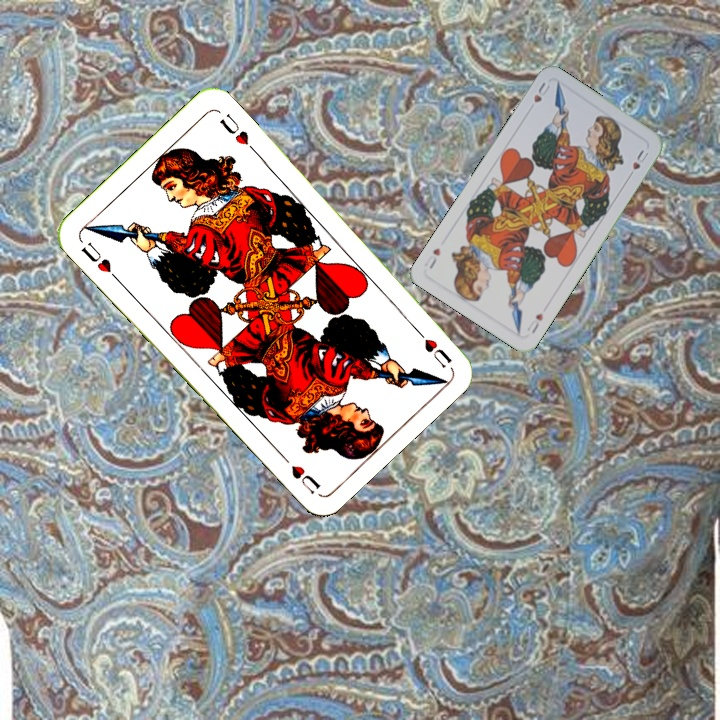HU: (409, 322, 455, 371), (77, 238, 121, 284), (530, 77, 553, 105), (523, 309, 546, 336)
